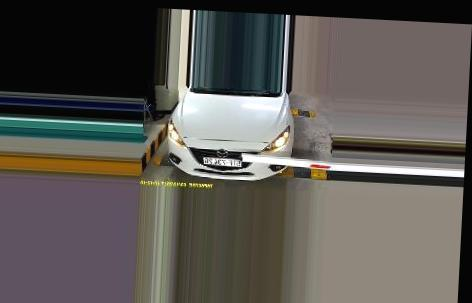License_Plate: (202, 155, 245, 169)
